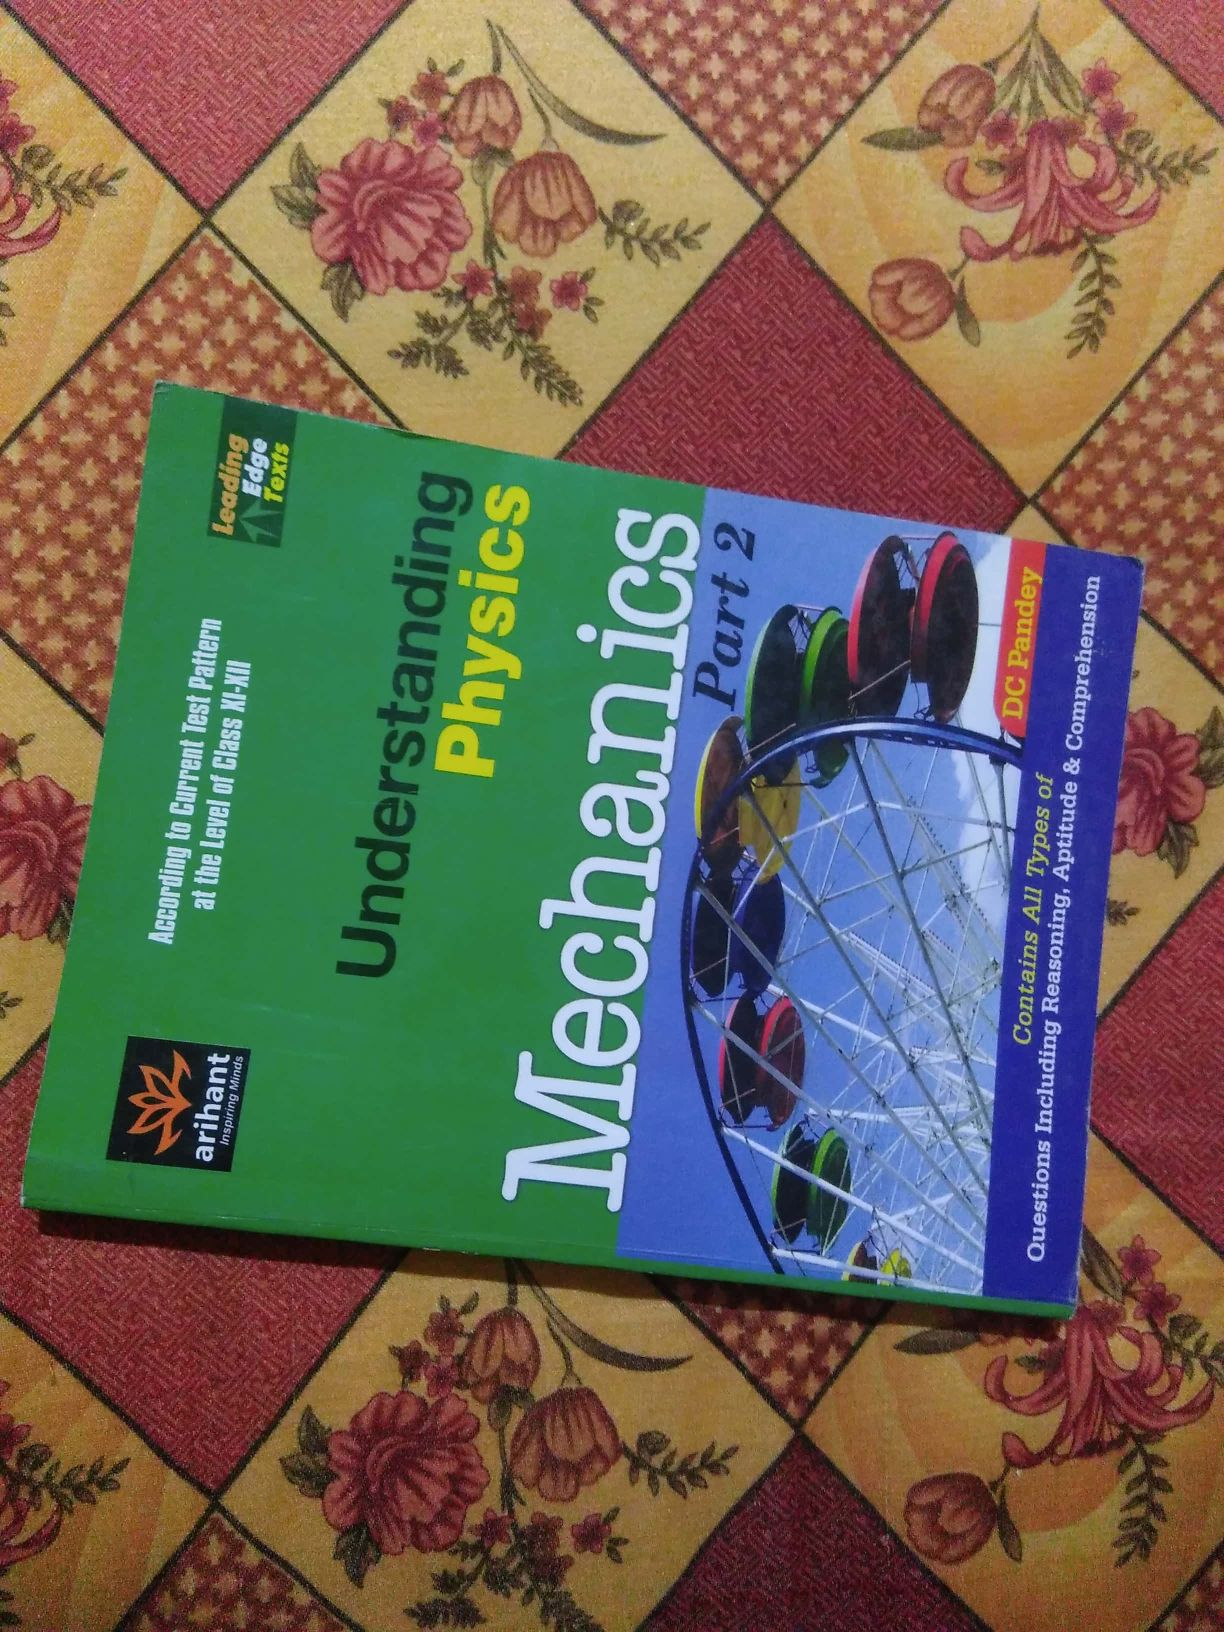mechanics: (41, 314, 1112, 1354)
